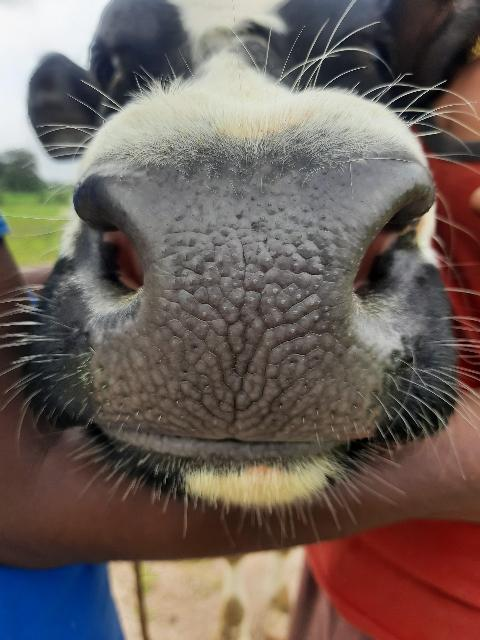Muzzle: (84, 162, 388, 434)
